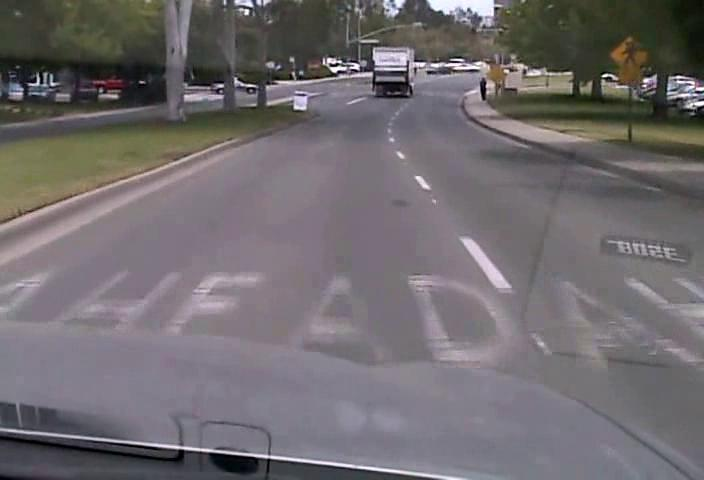pedestrianCrossing: (607, 35, 651, 72)
